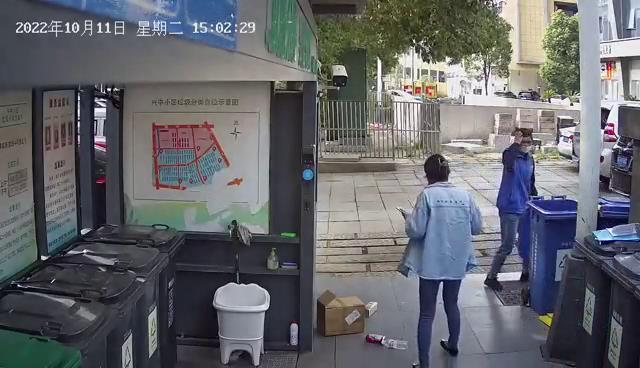lvzhipin: (364, 331, 387, 347)
suliaozhipin: (379, 337, 411, 352), (363, 300, 381, 319)
worker: (392, 152, 488, 368), (481, 125, 539, 294)
zhizhipin: (315, 288, 368, 339)
